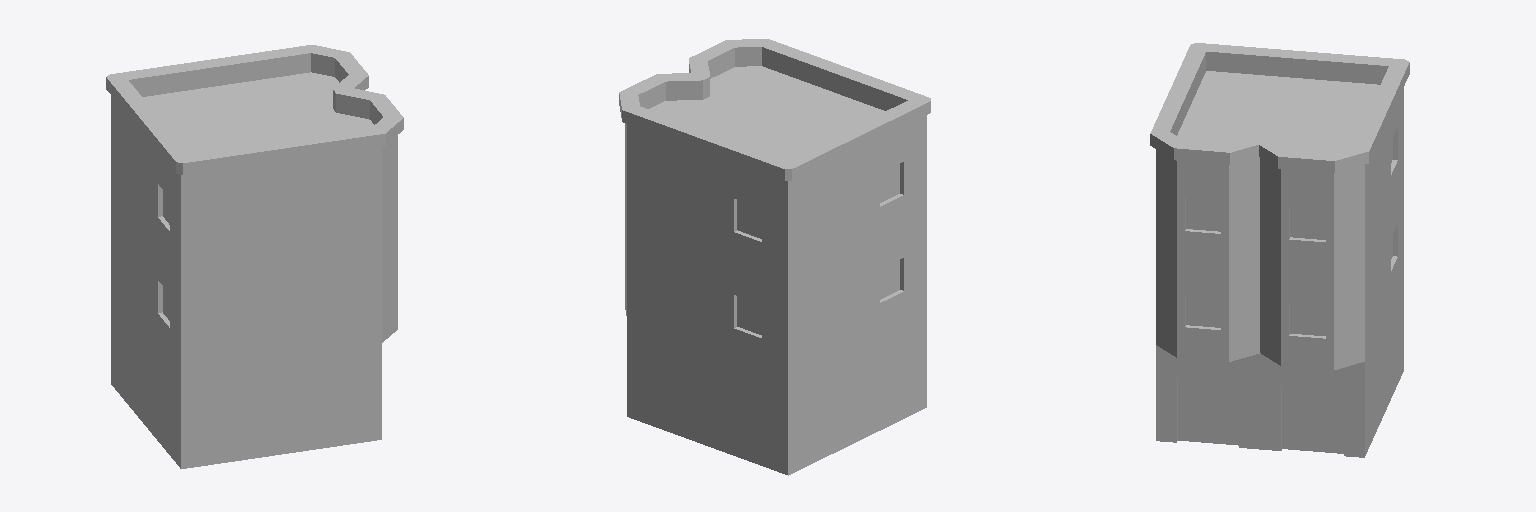
File: variant_36.obj
3 views of the same model, side by side, from view 1: azimuth 30°, elevation 25°; view 2: azimuth 150°, elevation 25°; view 3: azimuth 270°, elevation 25° (orthographic).
Parts seen in each view (by area): view 1: Building; view 2: Building; view 3: Building.
Boxes of the visible parts, x1,y1,x2,y2 form: Building: [106, 45, 403, 468]; Building: [619, 39, 930, 475]; Building: [1150, 43, 1409, 457].
Bounding box in the file's own units: 1.06 × 1.28 × 0.9766.